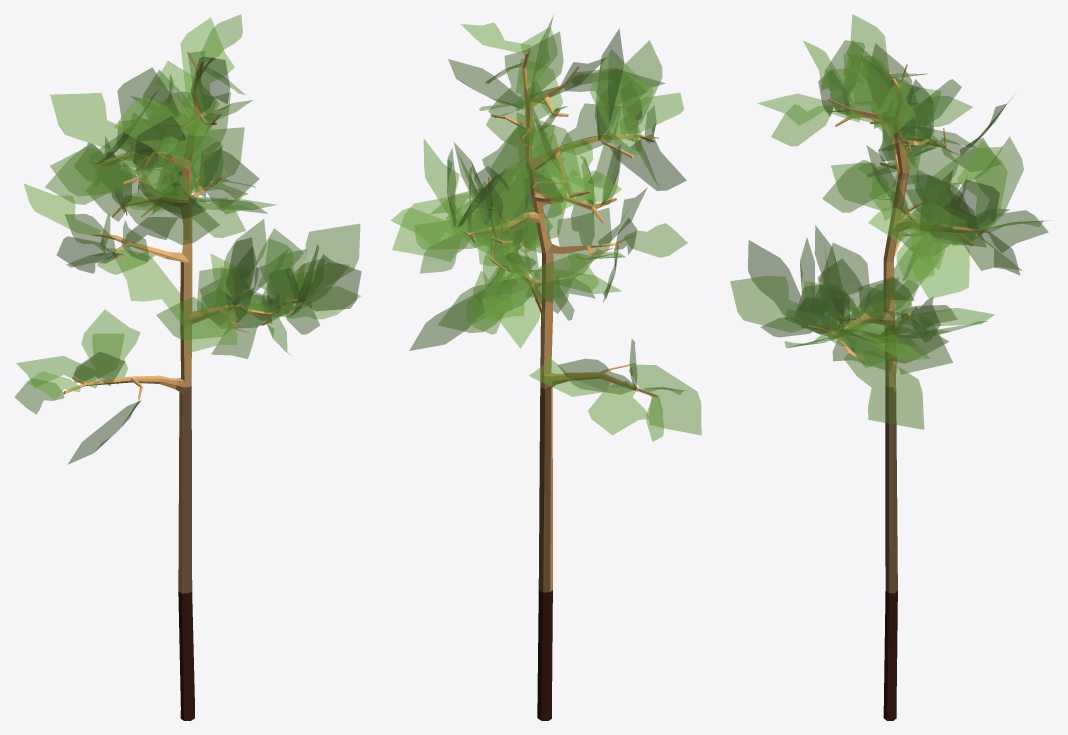
File: pine4.fbx
The picture shows the model from 3 angles, left to right: view 1: azimuth 30°, elevation 25°; view 2: azimuth 150°, elevation 25°; view 3: azimuth 270°, elevation 25°; orthographic projection.
Visible parts, largest first — view 1: Cube, Cube|TexturesCom_Leaves0142_4_masked_S|Dupli|34, Cube|TexturesCom_Leaves0142_4_masked_S|Dupli|72, Cube|TexturesCom_Leaves0142_4_masked_S|Dupli|16, Cube|TexturesCom_Leaves0142_4_masked_S|Dupli|37, Cube|TexturesCom_Leaves0142_4_masked_S|Dupli|59, Cube|TexturesCom_Leaves0142_4_masked_S|Dupli|41, Cube|TexturesCom_Leaves0142_4_masked_S|Dupli|5, Cube|TexturesCom_Leaves0142_4_masked_S|Dupli|85, Cube|TexturesCom_Leaves0142_4_masked_S|Dupli|, Cube|TexturesCom_Leaves0142_4_masked_S|Dupli|98, Cube|TexturesCom_Leaves0142_4_masked_S|Dupli|9 (+48 smaller); view 2: Cube, Cube|TexturesCom_Leaves0142_4_masked_S|Dupli|63, Cube|TexturesCom_Leaves0142_4_masked_S|Dupli|42, Cube|TexturesCom_Leaves0142_4_masked_S|Dupli|79, Cube|TexturesCom_Leaves0142_4_masked_S|Dupli|99, Cube|TexturesCom_Leaves0142_4_masked_S|Dupli|77, Cube|TexturesCom_Leaves0142_4_masked_S|Dupli|90, Cube|TexturesCom_Leaves0142_4_masked_S|Dupli|40, Cube|TexturesCom_Leaves0142_4_masked_S|Dupli|91, Cube|TexturesCom_Leaves0142_4_masked_S|Dupli|34, Cube|TexturesCom_Leaves0142_4_masked_S|Dupli|33, Cube|TexturesCom_Leaves0142_4_masked_S|Dupli|2 (+48 smaller); view 3: Cube, Cube|TexturesCom_Leaves0142_4_masked_S|Dupli|94, Cube|TexturesCom_Leaves0142_4_masked_S|Dupli|71, Cube|TexturesCom_Leaves0142_4_masked_S|Dupli|5, Cube|TexturesCom_Leaves0142_4_masked_S|Dupli|90, Cube|TexturesCom_Leaves0142_4_masked_S|Dupli|49, Cube|TexturesCom_Leaves0142_4_masked_S|Dupli|77, Cube|TexturesCom_Leaves0142_4_masked_S|Dupli|62, Cube|TexturesCom_Leaves0142_4_masked_S|Dupli|64, Cube|TexturesCom_Leaves0142_4_masked_S|Dupli|16, Cube|TexturesCom_Leaves0142_4_masked_S|Dupli|17, Cube|TexturesCom_Leaves0142_4_masked_S|Dupli|3 (+45 smaller).
Boxes of the visible parts, bbox=[...] form: Cube: bbox=[63, 51, 298, 720]; Cube|TexturesCom_Leaves0142_4_masked_S|Dupli|34: bbox=[45, 146, 139, 204]; Cube|TexturesCom_Leaves0142_4_masked_S|Dupli|72: bbox=[114, 97, 212, 158]; Cube|TexturesCom_Leaves0142_4_masked_S|Dupli|16: bbox=[124, 186, 219, 245]; Cube|TexturesCom_Leaves0142_4_masked_S|Dupli|37: bbox=[50, 143, 138, 196]; Cube|TexturesCom_Leaves0142_4_masked_S|Dupli|59: bbox=[50, 92, 122, 148]; Cube|TexturesCom_Leaves0142_4_masked_S|Dupli|41: bbox=[117, 67, 179, 148]; Cube|TexturesCom_Leaves0142_4_masked_S|Dupli|5: bbox=[298, 254, 361, 311]; Cube|TexturesCom_Leaves0142_4_masked_S|Dupli|85: bbox=[110, 248, 192, 327]; Cube|TexturesCom_Leaves0142_4_masked_S|Dupli|: bbox=[81, 309, 140, 384]; Cube|TexturesCom_Leaves0142_4_masked_S|Dupli|98: bbox=[294, 223, 360, 287]; Cube|TexturesCom_Leaves0142_4_masked_S|Dupli|9: bbox=[180, 17, 234, 112]; Cube: bbox=[456, 50, 658, 720]; Cube|TexturesCom_Leaves0142_4_masked_S|Dupli|63: bbox=[392, 193, 483, 261]; Cube|TexturesCom_Leaves0142_4_masked_S|Dupli|42: bbox=[590, 49, 653, 156]; Cube|TexturesCom_Leaves0142_4_masked_S|Dupli|79: bbox=[486, 112, 580, 177]; Cube|TexturesCom_Leaves0142_4_masked_S|Dupli|99: bbox=[629, 364, 701, 435]; Cube|TexturesCom_Leaves0142_4_masked_S|Dupli|77: bbox=[488, 31, 563, 118]; Cube|TexturesCom_Leaves0142_4_masked_S|Dupli|90: bbox=[438, 277, 536, 332]; Cube|TexturesCom_Leaves0142_4_masked_S|Dupli|40: bbox=[543, 140, 593, 212]; Cube|TexturesCom_Leaves0142_4_masked_S|Dupli|91: bbox=[553, 208, 611, 277]; Cube|TexturesCom_Leaves0142_4_masked_S|Dupli|34: bbox=[604, 133, 686, 190]; Cube|TexturesCom_Leaves0142_4_masked_S|Dupli|33: bbox=[490, 176, 532, 264]; Cube|TexturesCom_Leaves0142_4_masked_S|Dupli|2: bbox=[588, 381, 649, 435]; Cube: bbox=[802, 64, 987, 720]; Cube|TexturesCom_Leaves0142_4_masked_S|Dupli|94: bbox=[844, 351, 924, 429]; Cube|TexturesCom_Leaves0142_4_masked_S|Dupli|71: bbox=[890, 204, 984, 256]; Cube|TexturesCom_Leaves0142_4_masked_S|Dupli|5: bbox=[730, 276, 807, 332]; Cube|TexturesCom_Leaves0142_4_masked_S|Dupli|90: bbox=[865, 309, 952, 374]; Cube|TexturesCom_Leaves0142_4_masked_S|Dupli|49: bbox=[905, 125, 958, 221]; Cube|TexturesCom_Leaves0142_4_masked_S|Dupli|77: bbox=[867, 43, 915, 147]; Cube|TexturesCom_Leaves0142_4_masked_S|Dupli|62: bbox=[909, 239, 969, 299]; Cube|TexturesCom_Leaves0142_4_masked_S|Dupli|64: bbox=[974, 137, 1023, 230]; Cube|TexturesCom_Leaves0142_4_masked_S|Dupli|16: bbox=[822, 160, 897, 212]; Cube|TexturesCom_Leaves0142_4_masked_S|Dupli|17: bbox=[843, 53, 891, 117]; Cube|TexturesCom_Leaves0142_4_masked_S|Dupli|3: bbox=[748, 240, 802, 315].
Size of the model in its own units: 5075 by 11708 by 5070.
